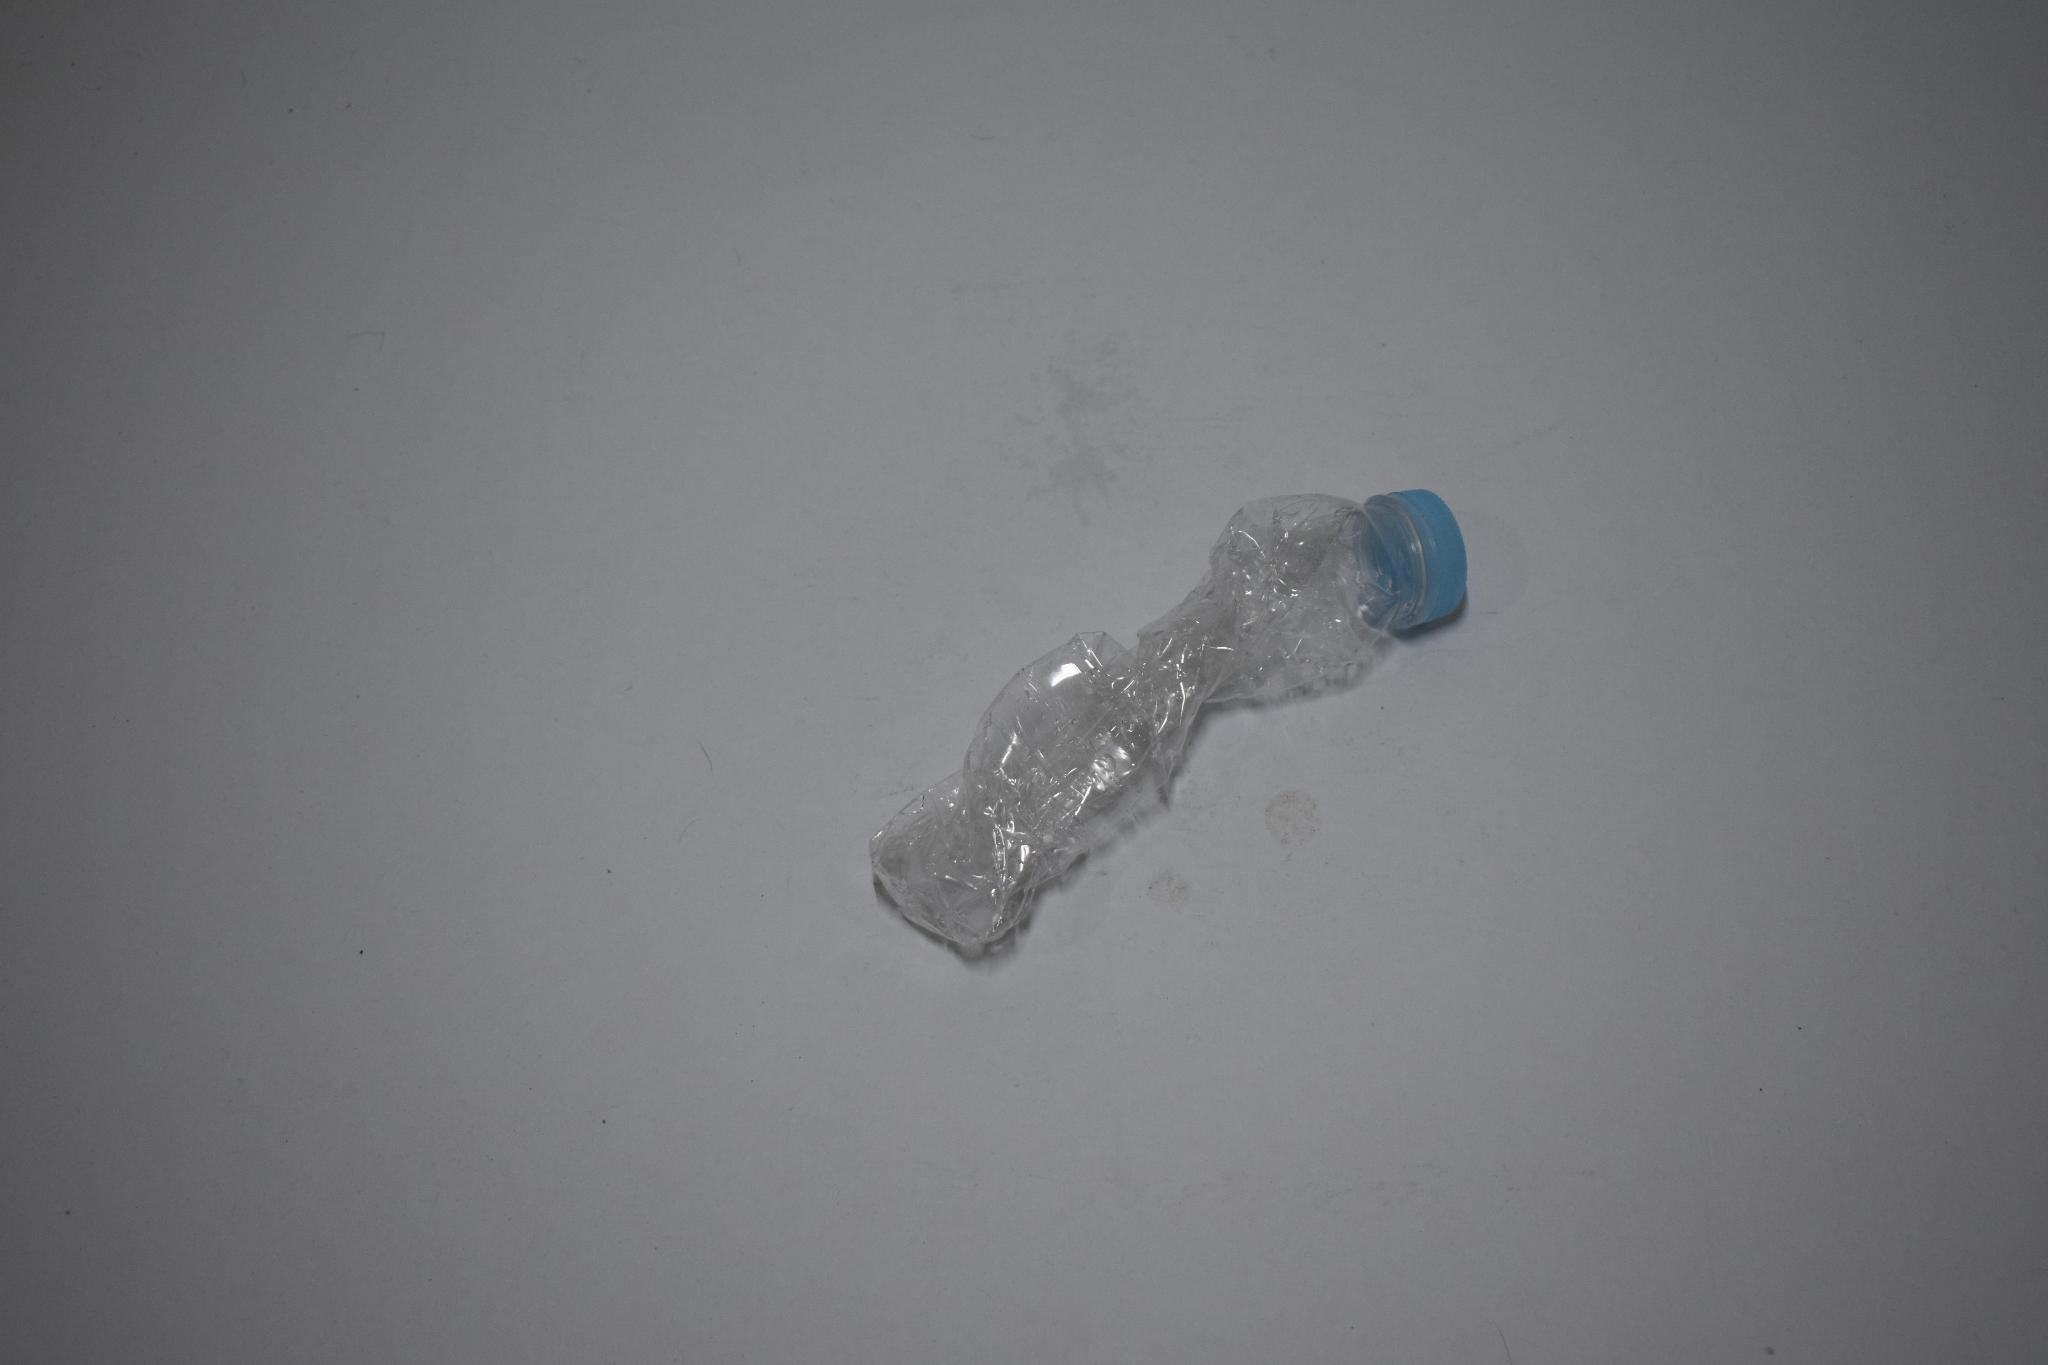bottle: (825, 421, 1493, 967)
